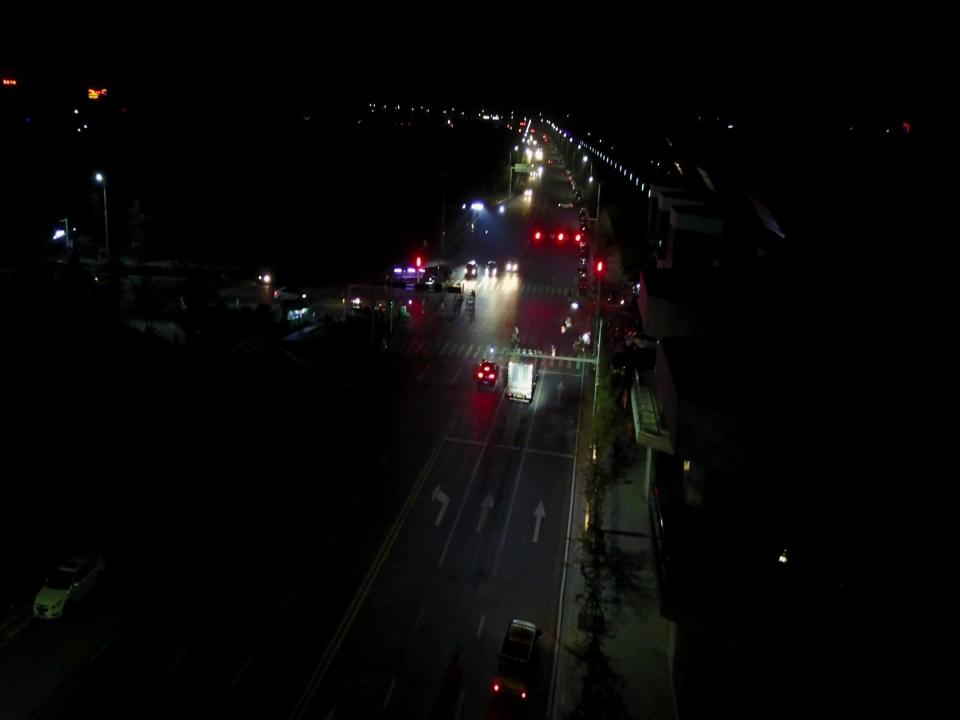car: (35, 560, 87, 622), (479, 358, 499, 391), (483, 258, 498, 276), (465, 259, 479, 278), (505, 257, 519, 273)
truck: (496, 610, 540, 706), (508, 343, 539, 402)
